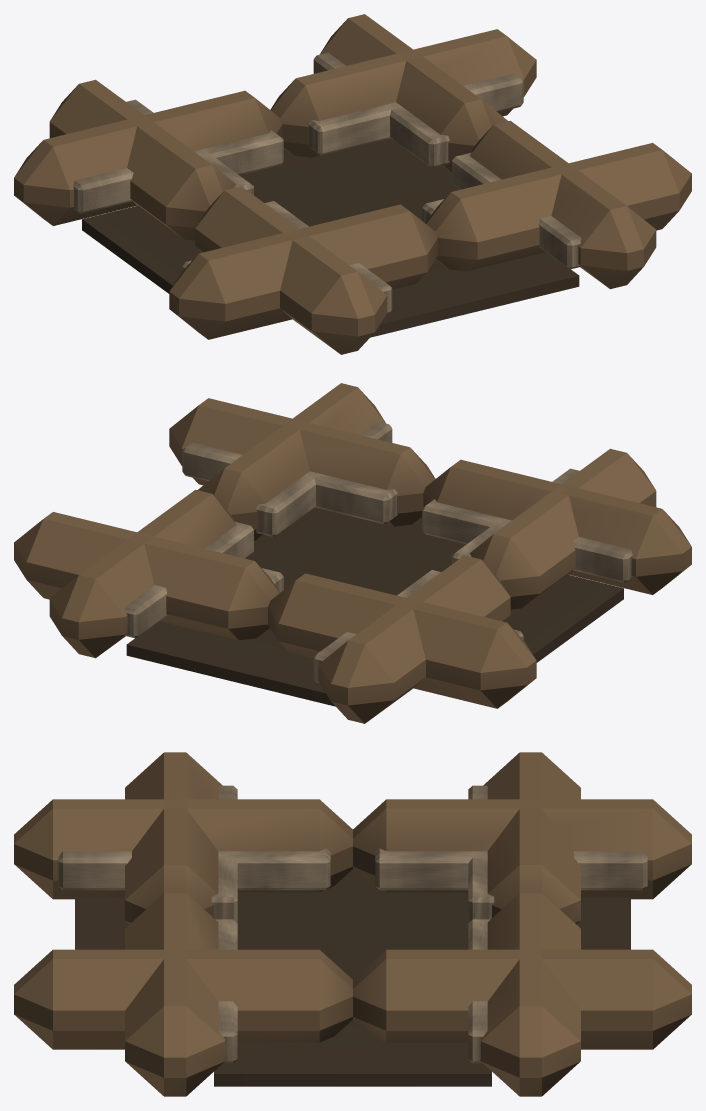
The model's file is trench_crossing.glb.
The picture shows the model from 3 angles, top to bottom: view 1: azimuth 30°, elevation 25°; view 2: azimuth 150°, elevation 25°; view 3: azimuth 270°, elevation 25°; orthographic projection. The views are drawn at different scales.
Visible parts, largest first — view 1: Earth revetment, Trench dark earth, Timber worn edges; view 2: Earth revetment, Trench dark earth, Timber worn edges; view 3: Earth revetment, Trench dark earth, Timber worn edges.
Part boxes in pixels (x1,y1,x2,y2): Earth revetment: (14,14,691,354); Trench dark earth: (82,138,579,337); Timber worn edges: (73,52,581,313); Earth revetment: (14,383,691,723); Trench dark earth: (126,507,623,706); Timber worn edges: (124,421,632,682); Earth revetment: (14,752,691,1096); Trench dark earth: (75,869,630,1086); Timber worn edges: (58,785,647,1063).
Bounding box in the file's own units: 1.22 × 0.18 × 1.22.
Materials: 3 (1 with a texture image).
